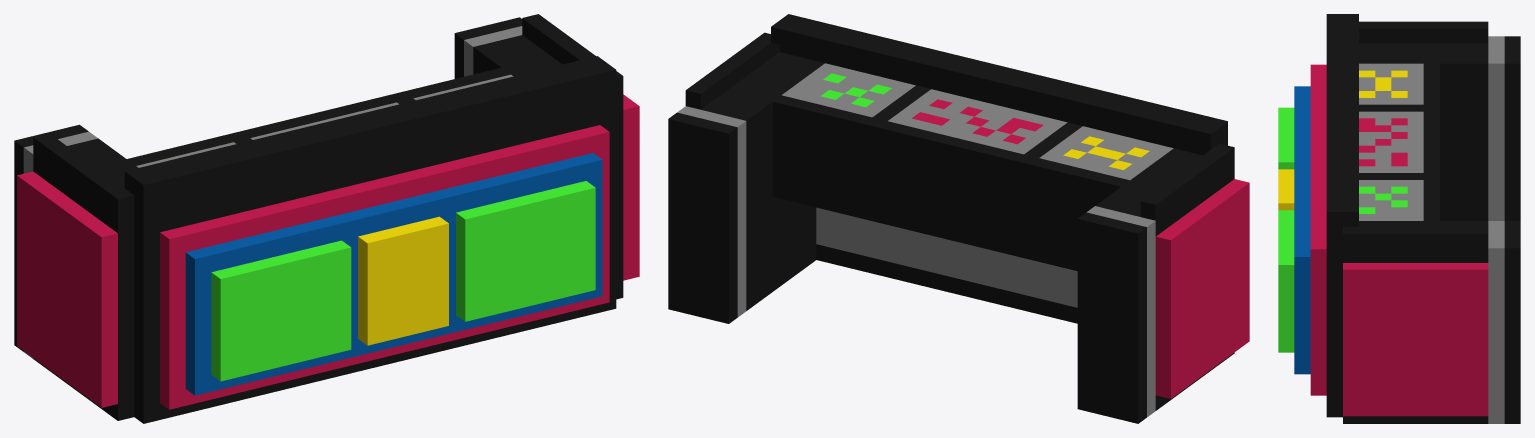
File: djtable.obj
The picture shows the model from 3 angles, left to right: view 1: azimuth 30°, elevation 25°; view 2: azimuth 150°, elevation 25°; view 3: azimuth 270°, elevation 25°; orthographic projection. The views are drawn at different scales.
Parts seen in each view (by area): view 1: djtable; view 2: djtable; view 3: djtable.
Boxes of the visible parts, x1,y1,x2,y2 form: djtable: [14, 14, 639, 423]; djtable: [668, 14, 1249, 423]; djtable: [1278, 14, 1520, 423].
Bounding box in the file's own units: 33 × 14 × 15.
1 material, 1 textured.
